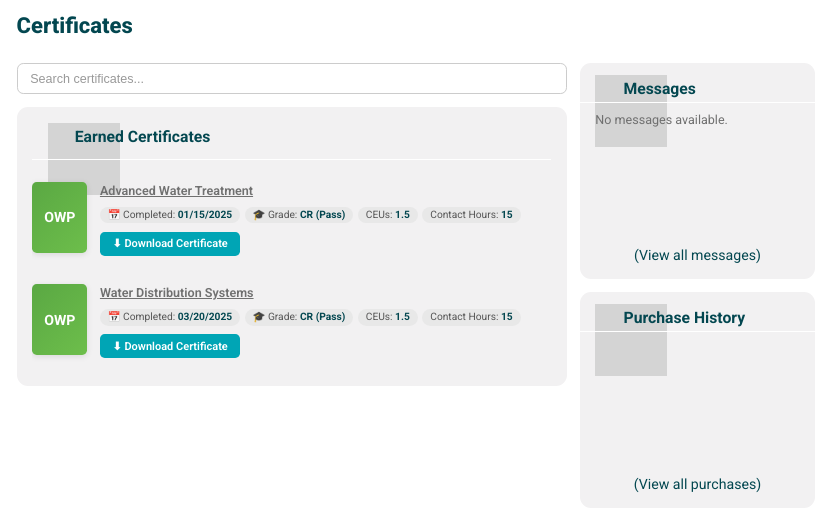
Test: CertificatesPage — Integration Tests › shows no-match message when search returns no results
Type "xyznotfound" into the field with class "search-input" at (292, 79), box left=17, top=63, right=567, bottom=94
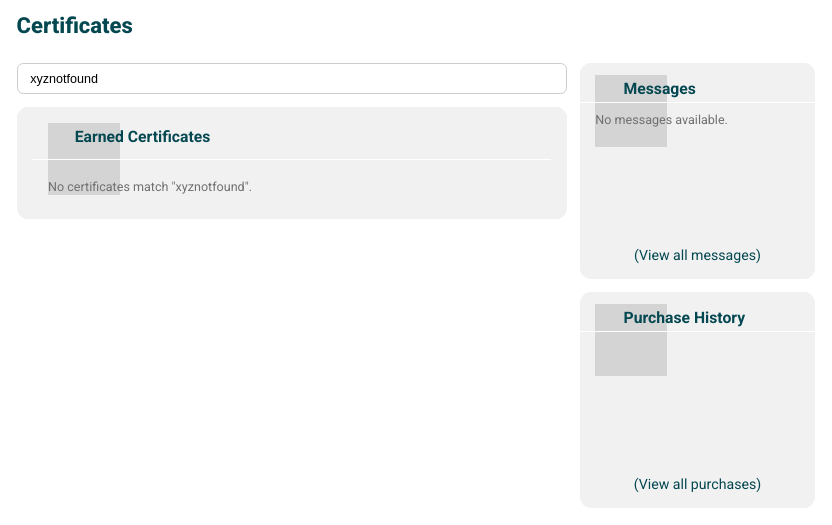
Check: the text "No certificates match" is shown, box left=48, top=179, right=252, bottom=194
